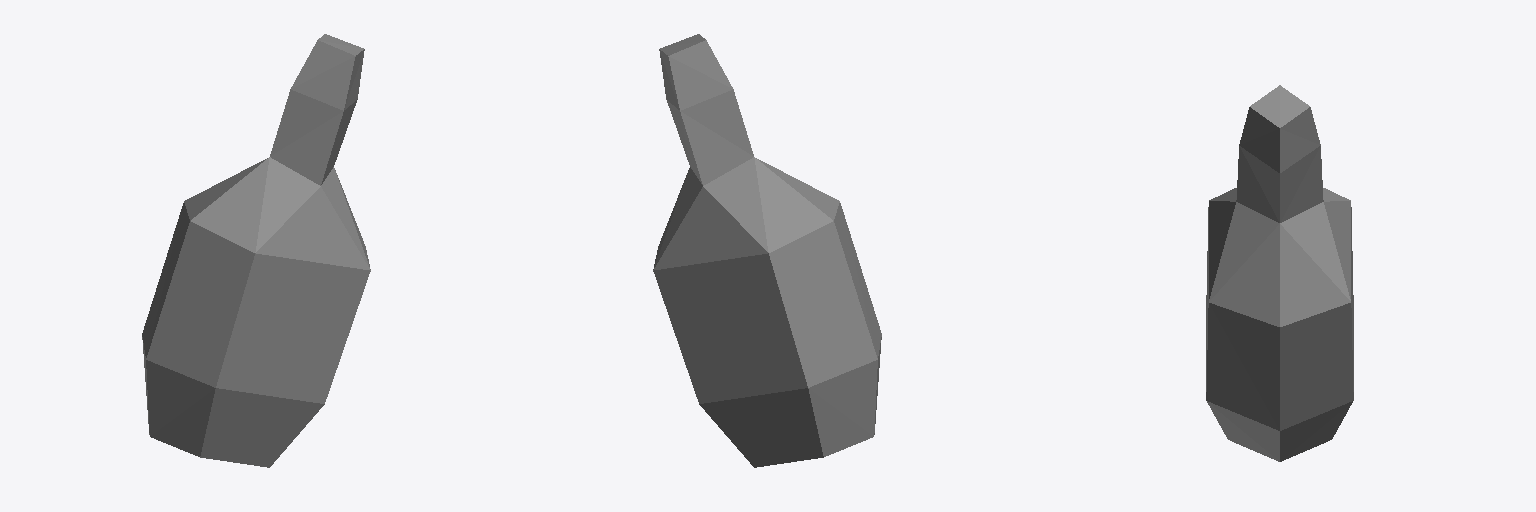
The model's file is potion_1.obj.
The picture shows the model from 3 angles: view 1: azimuth 30°, elevation 25°; view 2: azimuth 150°, elevation 25°; view 3: azimuth 270°, elevation 25°; orthographic projection.
Visible parts, largest first — view 1: default_Mesh; view 2: default_Mesh; view 3: default_Mesh.
Boxes of the visible parts, x1,y1,x2,y2 form: default_Mesh: [142, 34, 370, 467]; default_Mesh: [653, 34, 881, 467]; default_Mesh: [1206, 85, 1353, 461].
Size of the model in its own units: 1.15 by 2.02 by 0.6705.